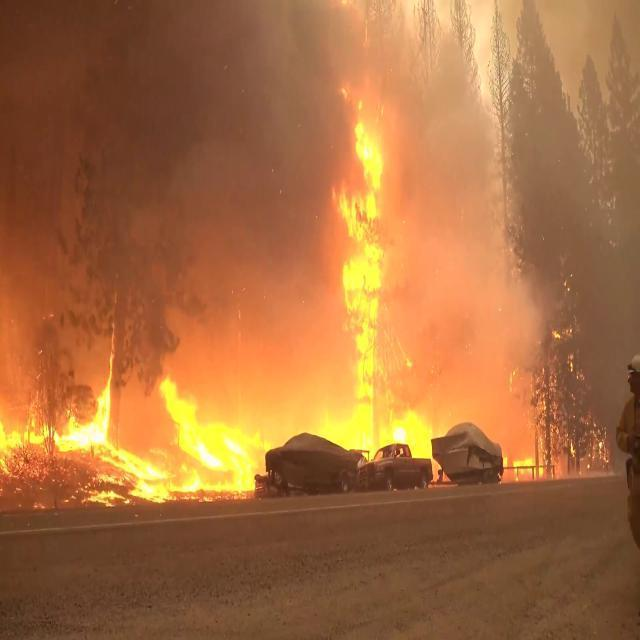Fire: (339, 110, 392, 440), (169, 387, 260, 495), (55, 353, 112, 446)
Smoke: (98, 20, 298, 291), (402, 84, 512, 365)
